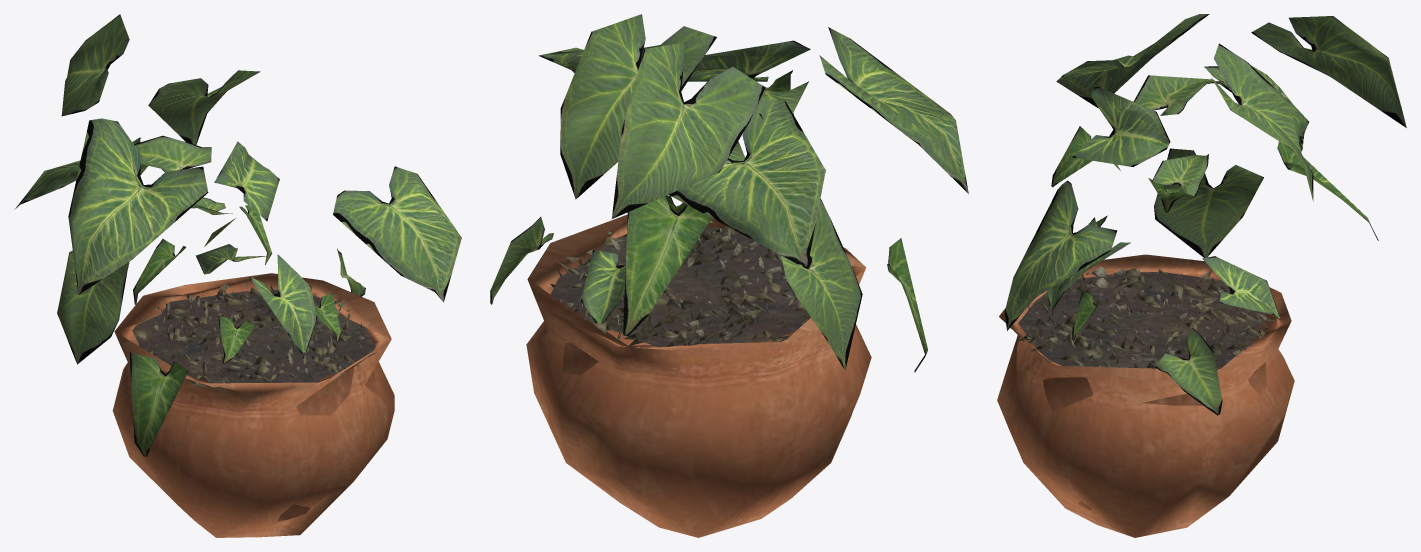
The model's file is potted_plant.glb.
3 views of the same model, side by side, from view 1: azimuth 30°, elevation 25°; view 2: azimuth 150°, elevation 25°; view 3: azimuth 270°, elevation 25° (orthographic). The views are drawn at different scales.
Visible parts, largest first — view 1: potted_plant_02_pot, potted_plant_02_leaves; view 2: potted_plant_02_pot, potted_plant_02_leaves; view 3: potted_plant_02_pot, potted_plant_02_leaves.
Part boxes in pixels (x1,y1,x2,y2): potted_plant_02_pot: (112,273,394,537); potted_plant_02_leaves: (14,14,461,456); potted_plant_02_pot: (526,214,871,537); potted_plant_02_leaves: (490,14,968,372); potted_plant_02_pot: (997,254,1294,537); potted_plant_02_leaves: (1004,14,1406,415).
Size of the model in its own units: 0.6807 by 0.8138 by 0.6481.
2 materials, 2 textured.
